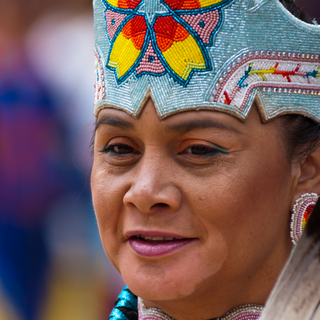eye: (171, 136, 232, 169), (97, 133, 143, 165)
